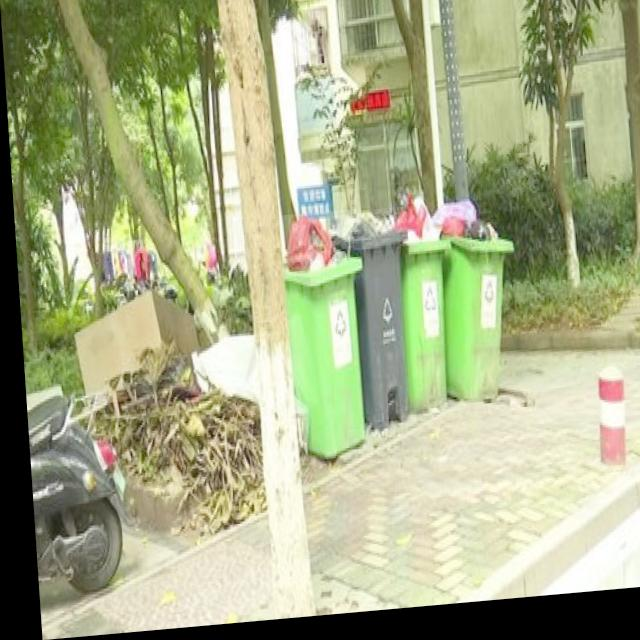overflow: (276, 215, 366, 467), (330, 214, 411, 436), (432, 205, 518, 411), (395, 212, 452, 417)
